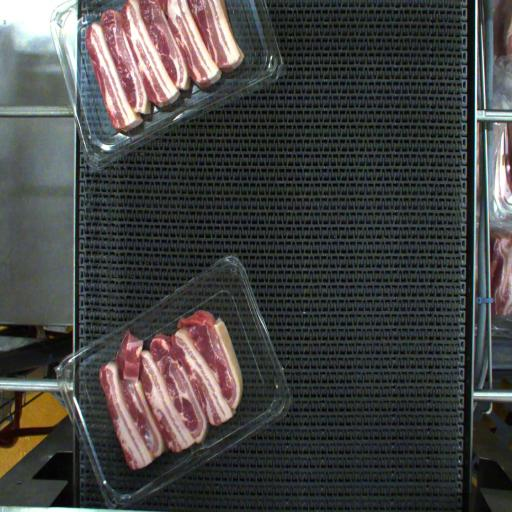twisted-meat: (109, 319, 148, 358)
